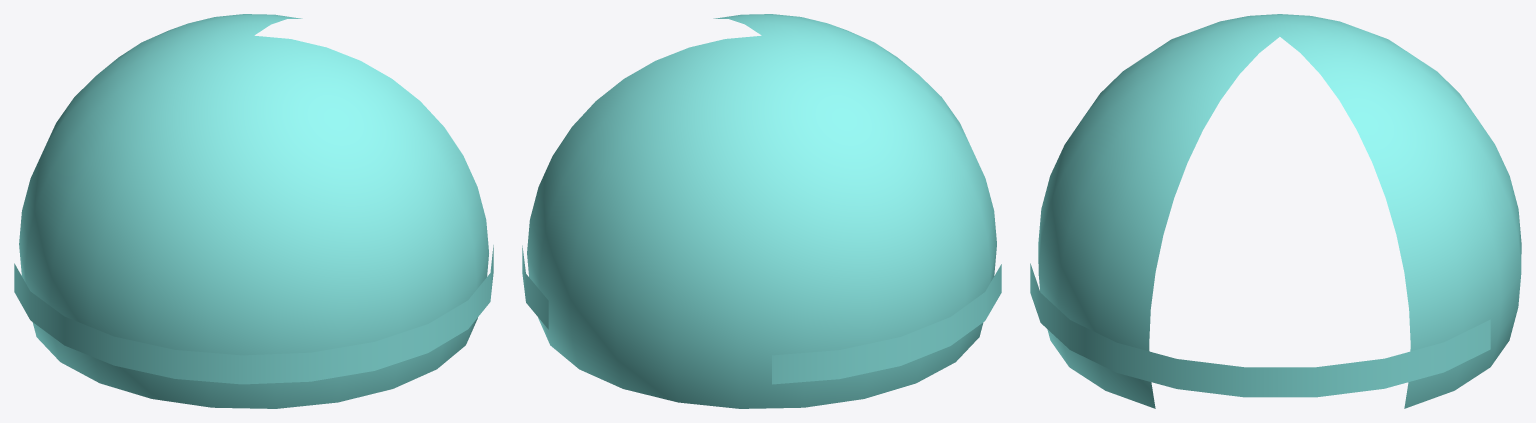
The model's file is diamond_helmet.glb.
3 renders of one model, left to right at view 1: azimuth 30°, elevation 25°; view 2: azimuth 150°, elevation 25°; view 3: azimuth 270°, elevation 25°, orthographic. The views are drawn at different scales.
Visible parts, largest first — view 1: shell, rim; view 2: shell, rim; view 3: shell, rim.
Boxes of the visible parts, left/top/right/bottom form: shell: left=19, top=14, right=488, bottom=408; rim: left=14, top=245, right=493, bottom=384; shell: left=527, top=14, right=996, bottom=408; rim: left=522, top=245, right=1001, bottom=384; shell: left=1038, top=14, right=1521, bottom=408; rim: left=1030, top=263, right=1490, bottom=397.
Size of the model in its own units: 0.4456 by 0.288 by 0.4429.
